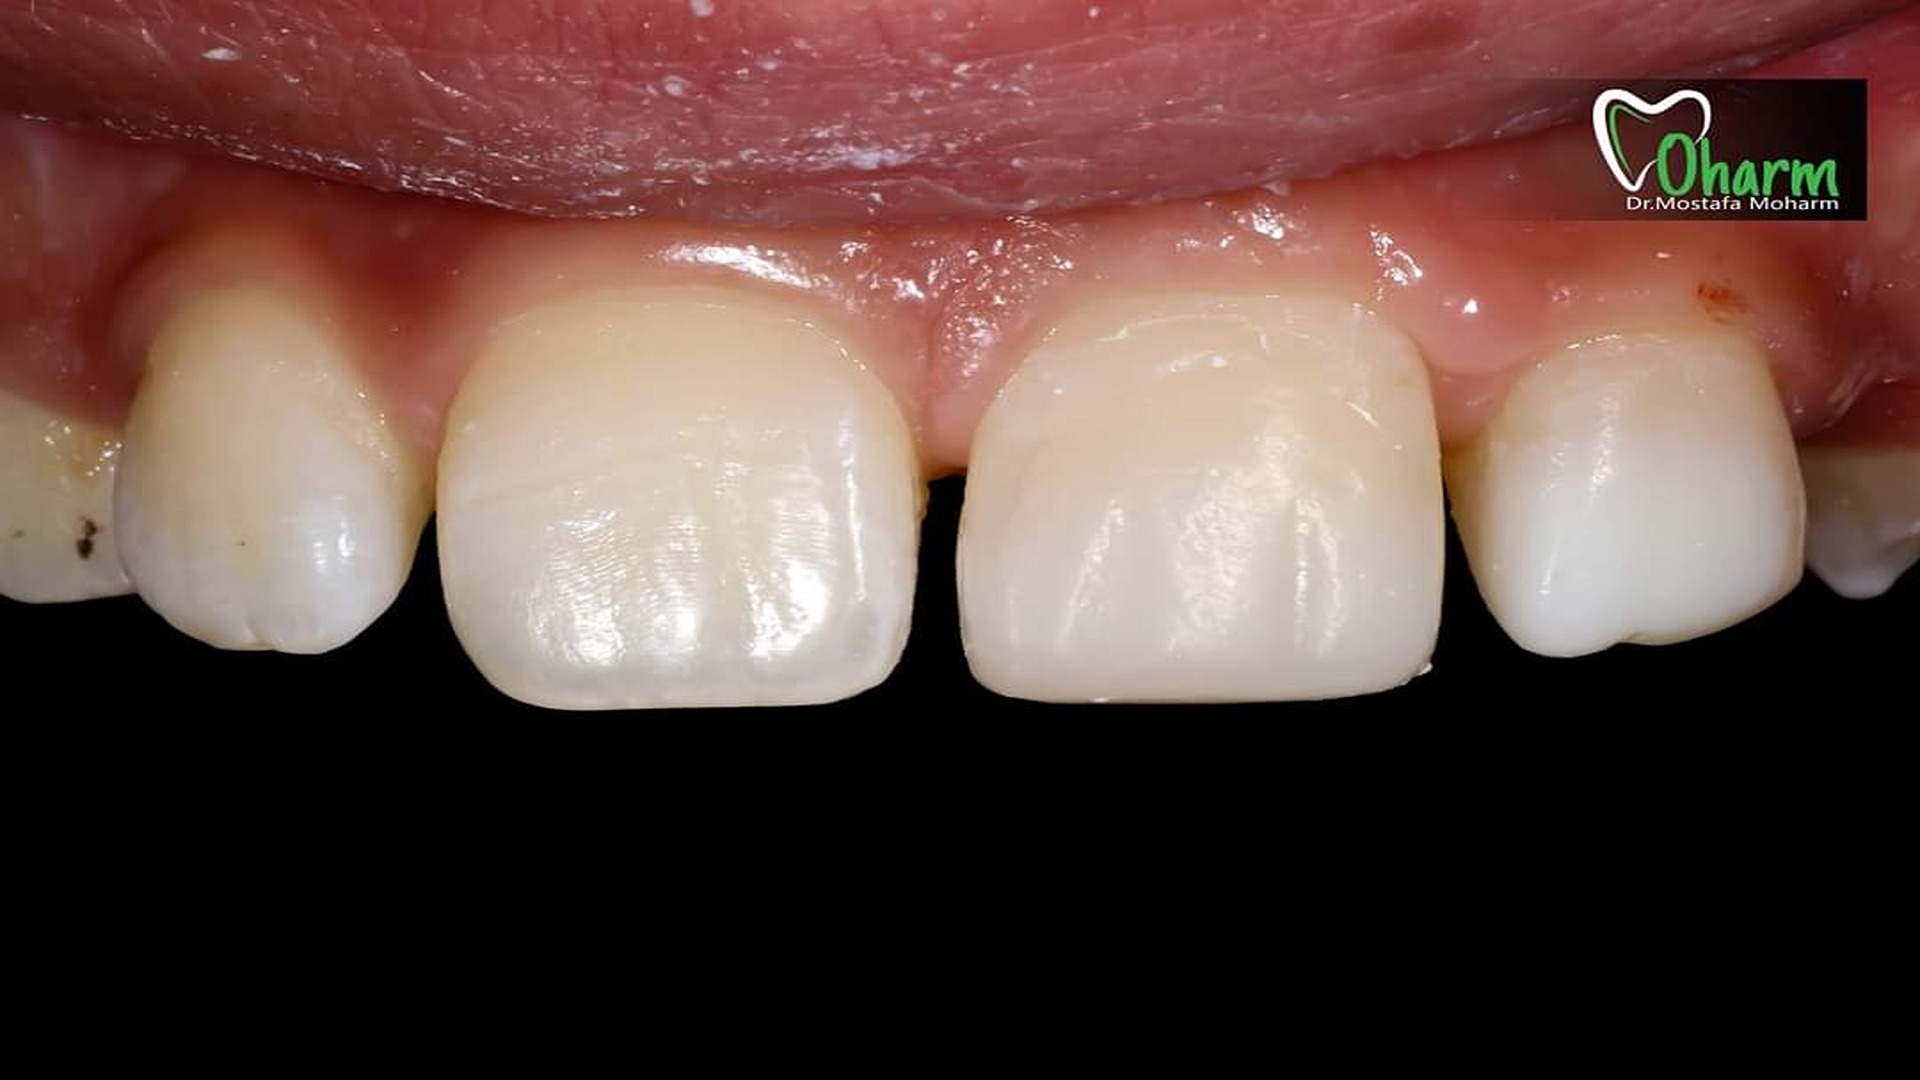tooth: (435, 287, 924, 712), (956, 290, 1445, 705), (1443, 324, 1808, 658), (113, 287, 433, 654)
